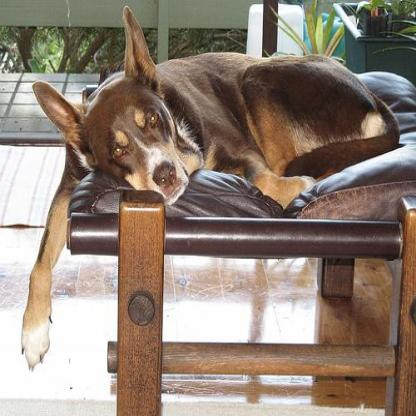kelpie: (19, 4, 399, 369)
